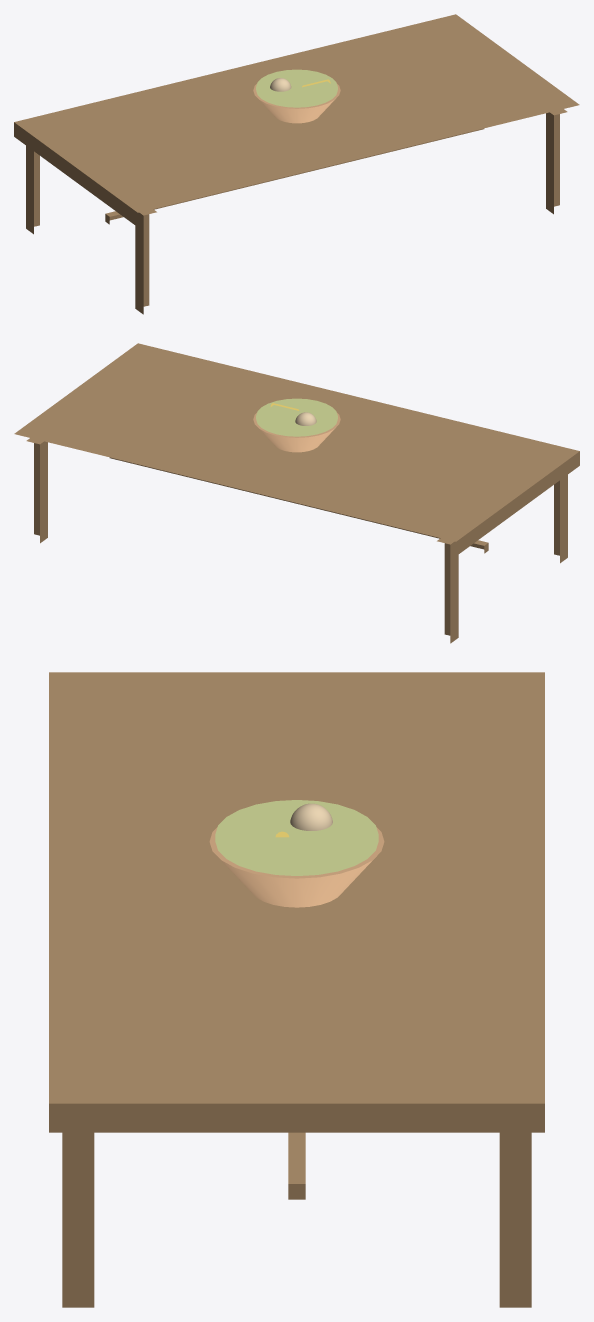
Rendered from ajiaco_mesa.glb.
3 renders of one model, top to bottom at view 1: azimuth 30°, elevation 25°; view 2: azimuth 150°, elevation 25°; view 3: azimuth 270°, elevation 25°, orthographic. The views are drawn at different scales.
Visible parts, largest first — view 1: tablero, pata (×3), caldo, cuenco, refuerzo; view 2: tablero, pata (×3), caldo, cuenco, refuerzo; view 3: tablero, pata (×2), caldo, cuenco, refuerzo, crema.
Part boxes in pixels (x1,y1,x2,y2): tablero: (14,14,579,226); pata (×3): (26,109,567,314); caldo: (256,69,337,107); cuenco: (253,84,340,123); refuerzo: (105,128,484,224); tablero: (14,343,579,555); pata (×3): (26,438,567,643); caldo: (256,398,337,436); cuenco: (253,413,340,452); refuerzo: (109,457,488,553); tablero: (49,672,544,1132); pata (×2): (62,1132,531,1307); caldo: (215,800,378,875); cuenco: (209,827,384,907); refuerzo: (288,1132,305,1199); crema: (290,803,332,830).
Bounding box in the file's own units: 7 × 2.14 × 3.4.
